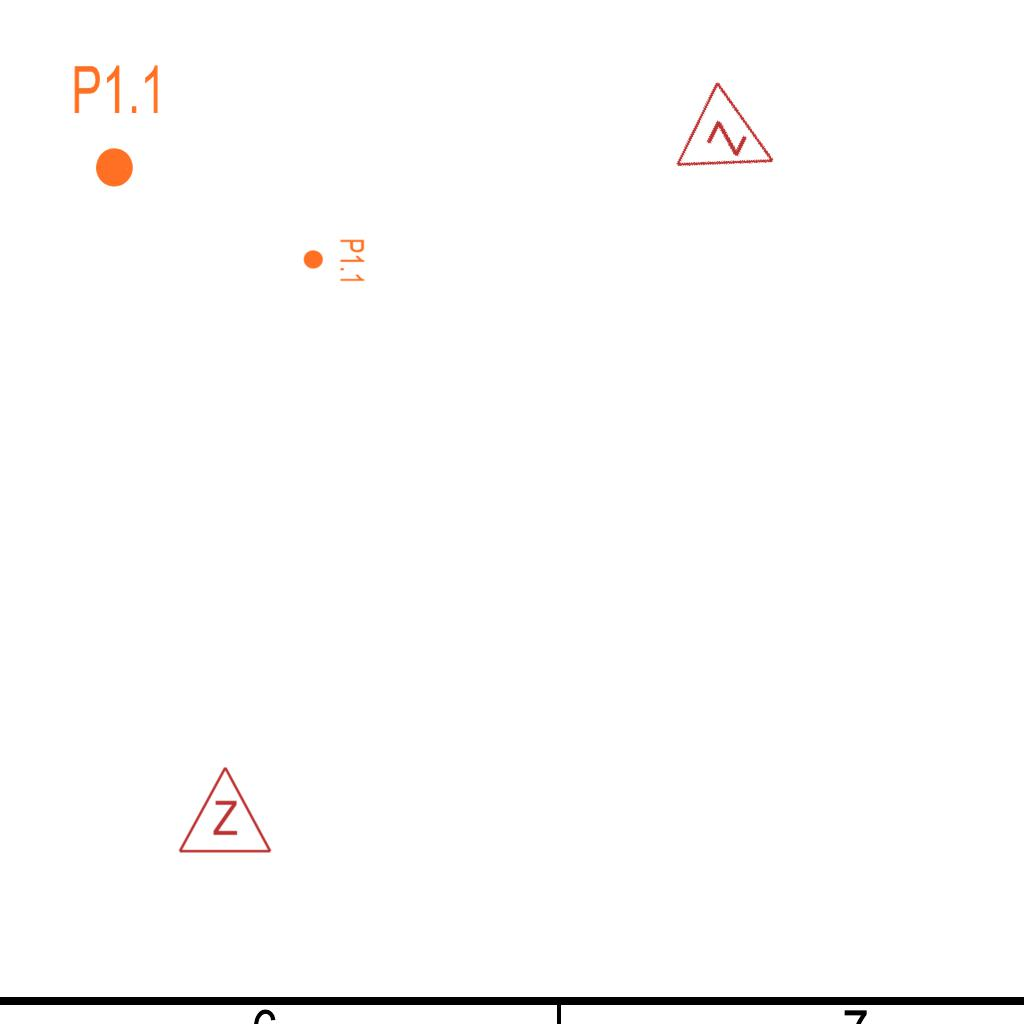Downlight_LED_Einbauleuchten_Flur: (71, 62, 164, 190), (302, 238, 366, 284)
Zimmersignalleuchte: (668, 75, 802, 207), (175, 760, 273, 860)
